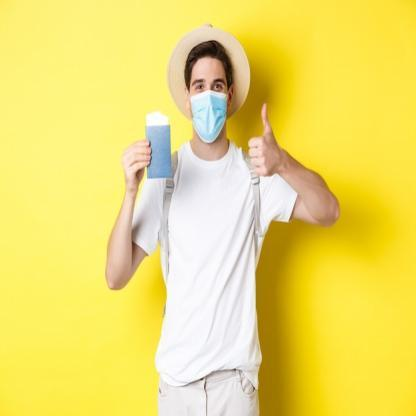thumb_up: (244, 100, 282, 180)
